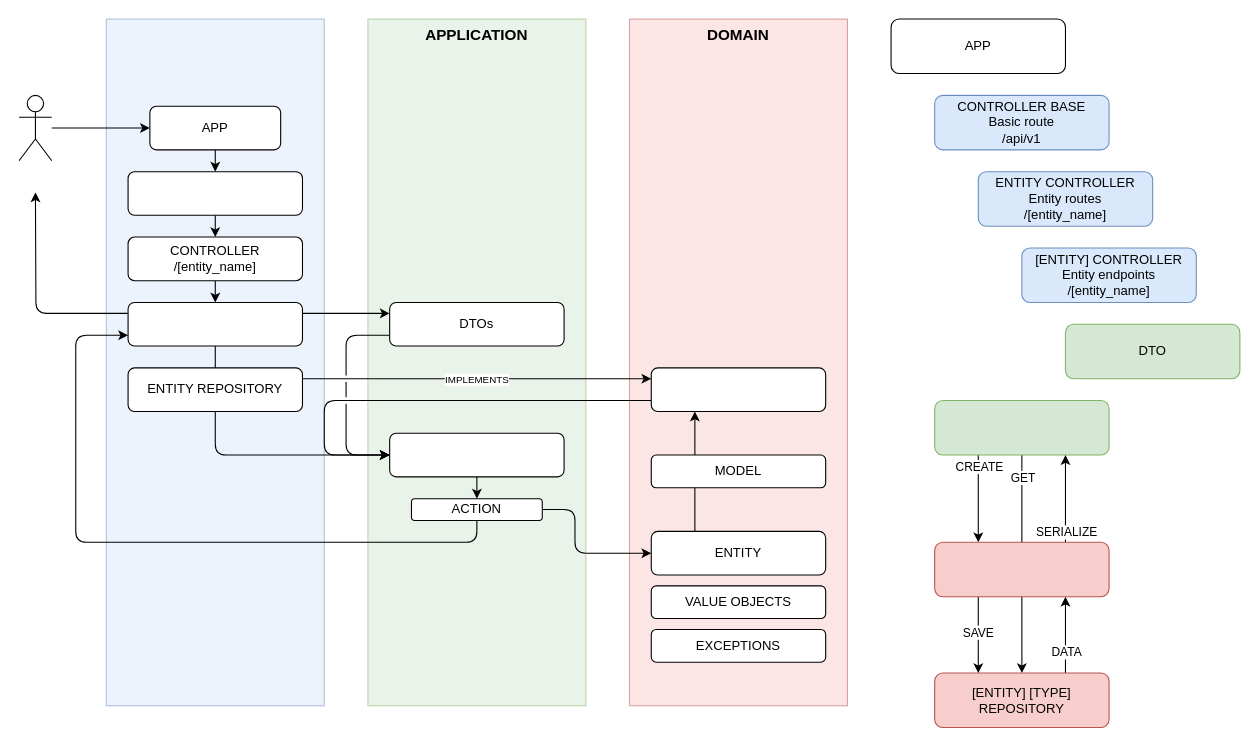
Image size: 1259x747. Some labels were removed from this diagram. Here are the shapes that lost their labels. From the top down, the box of each, then its label:
(18, 94, 52, 161): Actor
(127, 171, 302, 215): CONTROLLER BASE /api/v1
(127, 301, 302, 346): ENTITY CONTROLLER /[endpoint] [method]
(105, 18, 324, 706): INFRASTRUCTURE
(650, 367, 826, 411): ABSTRACT REPOSITORY
(934, 399, 1109, 455): [ENTITY] SERVICE
(389, 432, 564, 477): ENTITY SERVICE
(934, 541, 1109, 597): [ENTITY]
